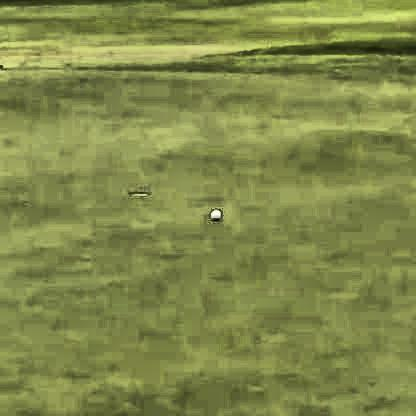golfball: (206, 206, 220, 220)
